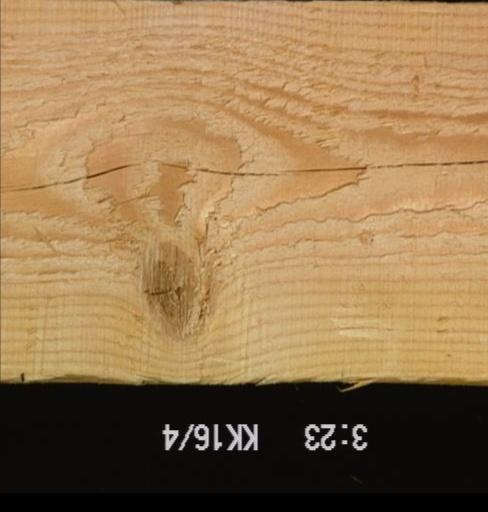sound_knot: (138, 237, 213, 342)
split: (0, 153, 486, 194), (92, 191, 162, 212)
wave: (223, 352, 486, 385), (0, 360, 143, 382)
